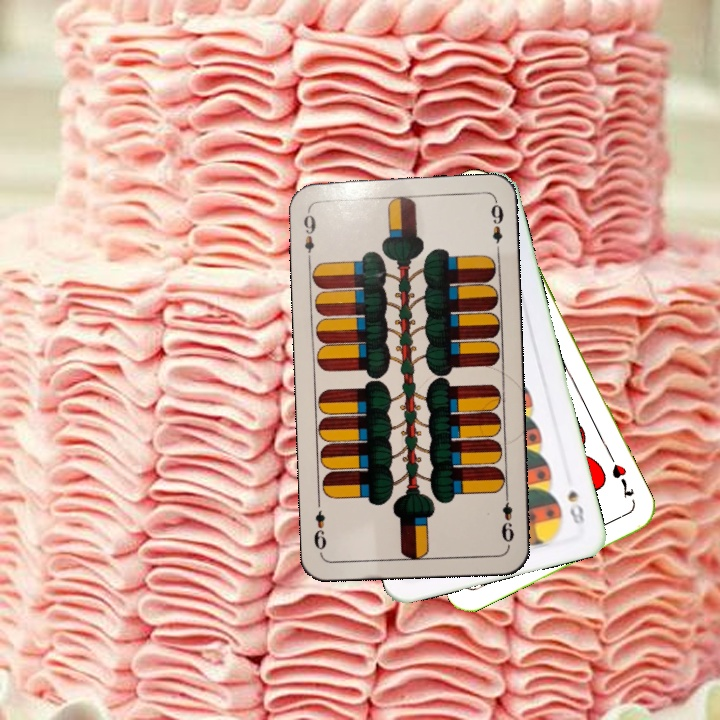E9: (497, 489, 517, 548), (299, 206, 318, 265)
H7: (607, 459, 637, 501)
S8: (563, 485, 587, 527)
